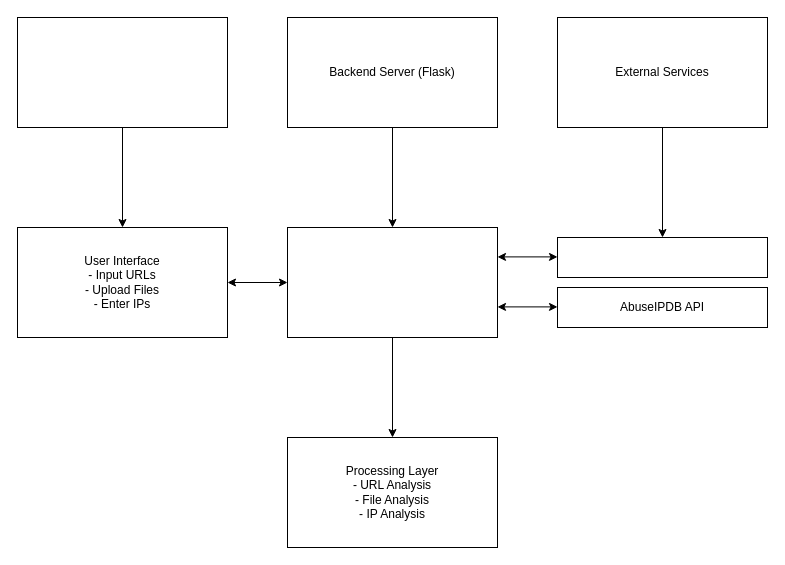
This 785x565 diagram has some shape labels left out. The centre of each missing label's shape, as x and y in pixels:
API Endpoints: the point at 392,282
Flutter Mobile App: the point at 122,72
VirusTotal API: the point at 662,257
